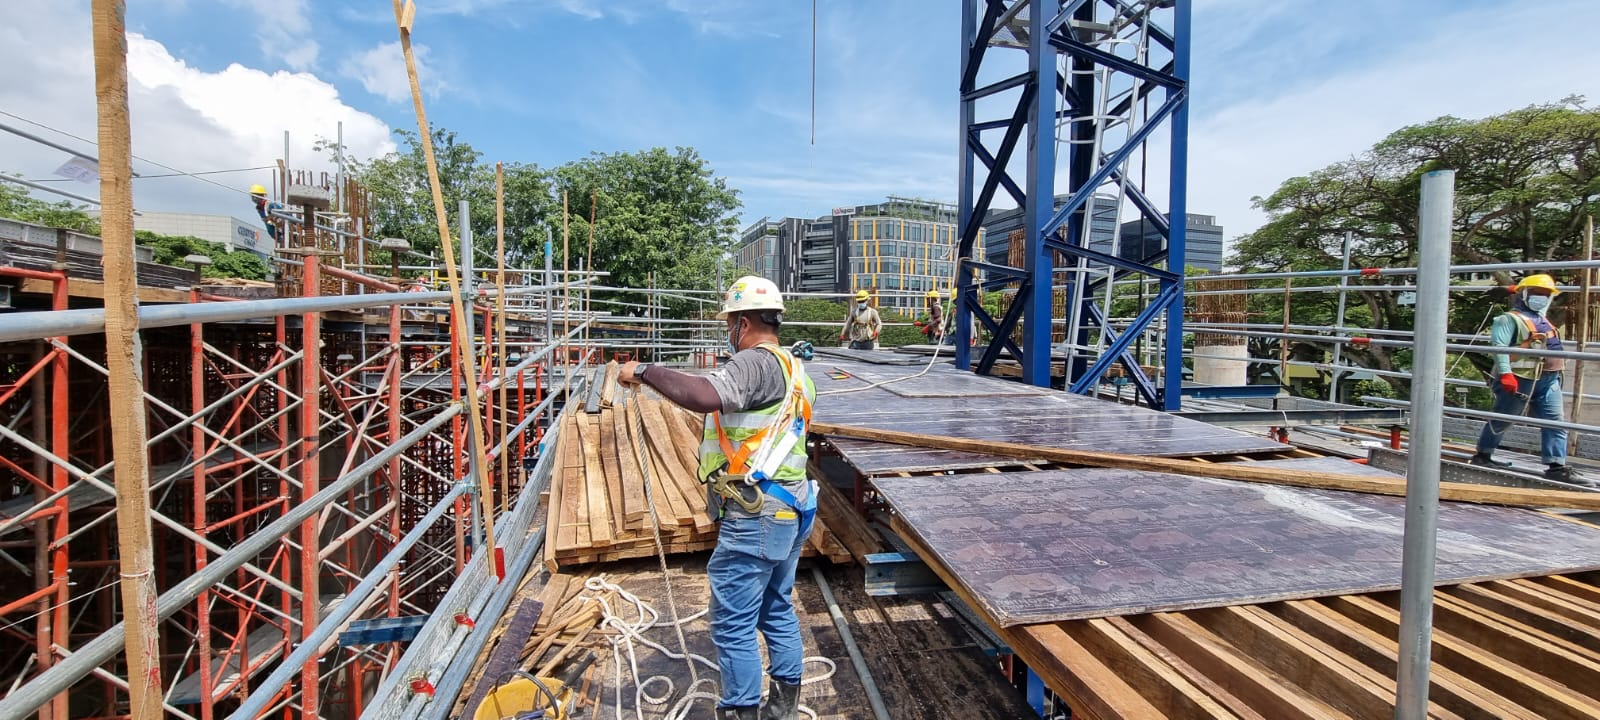helmet: (719, 278, 789, 315), (1516, 273, 1560, 294), (855, 290, 870, 301), (927, 292, 941, 300)
person: (622, 276, 808, 718), (1482, 274, 1582, 482), (841, 291, 882, 351), (947, 288, 972, 345), (925, 292, 944, 345)
vest: (699, 356, 814, 514), (1491, 308, 1563, 392), (852, 306, 876, 340), (929, 306, 943, 332)
